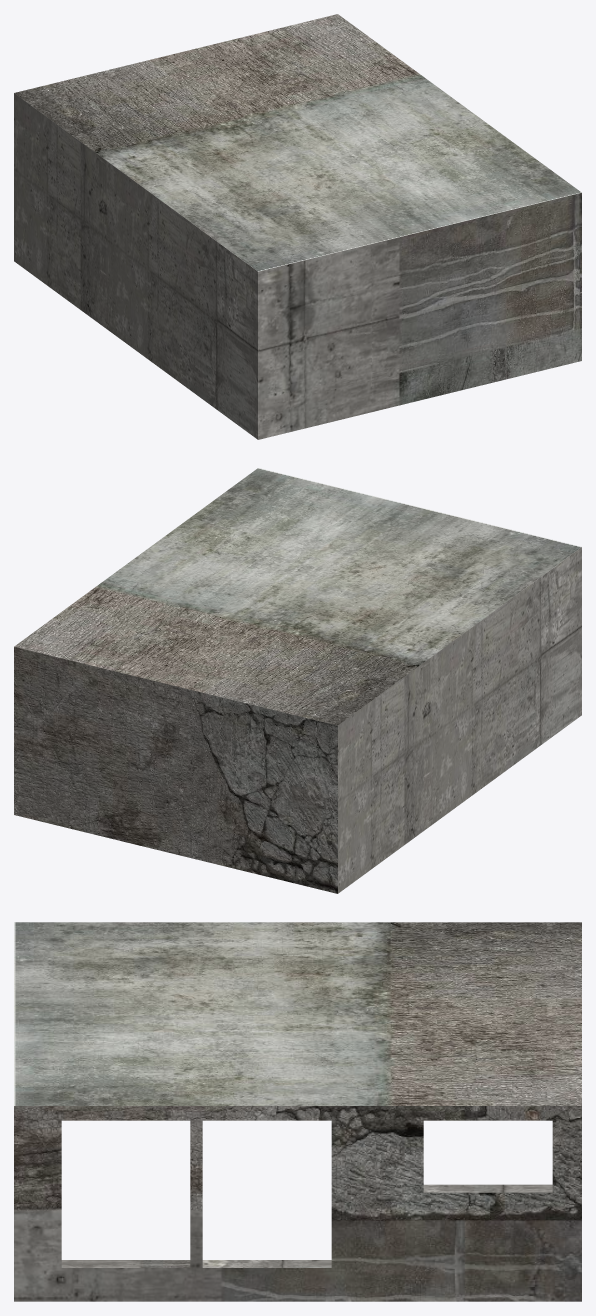
The picture shows the model from 3 angles, top to bottom: view 1: azimuth 30°, elevation 25°; view 2: azimuth 150°, elevation 25°; view 3: azimuth 270°, elevation 25°; orthographic projection. The views are drawn at different scales.
Visible parts, largest first — view 1: Cube.069; view 2: Cube.069; view 3: Cube.069.
Part boxes in pixels (left/top/right/bottom): Cube.069: left=14, top=14, right=581, bottom=439; Cube.069: left=14, top=468, right=581, bottom=893; Cube.069: left=14, top=922, right=581, bottom=1301.
Bounding box in the file's own units: 1.4 × 0.6945 × 1.83.
1 material, 1 textured.
